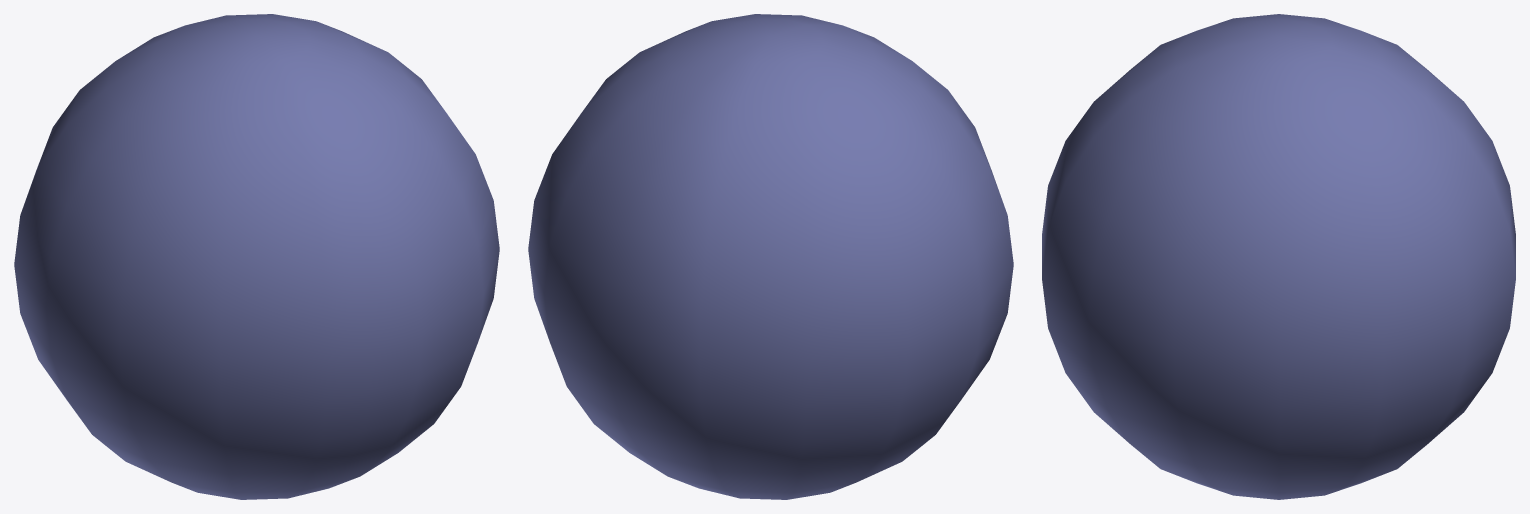
Rendered from SM_HurricaneEye.fbx.
3 renders of one model, left to right at view 1: azimuth 30°, elevation 25°; view 2: azimuth 150°, elevation 25°; view 3: azimuth 270°, elevation 25°, orthographic.
Visible parts, largest first — view 1: polySurface5; view 2: polySurface5; view 3: polySurface5.
Boxes of the visible parts, x1,y1,x2,y2 form: polySurface5: [14, 14, 499, 499]; polySurface5: [528, 14, 1013, 499]; polySurface5: [1042, 14, 1515, 499].
Bounding box in the file's own units: 146 × 146 × 142.
